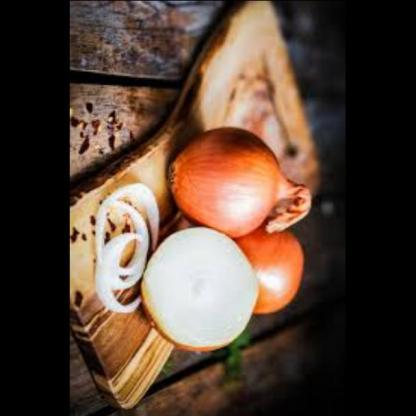onion: (139, 230, 259, 356), (168, 123, 296, 241), (87, 183, 168, 316), (227, 222, 309, 320)
